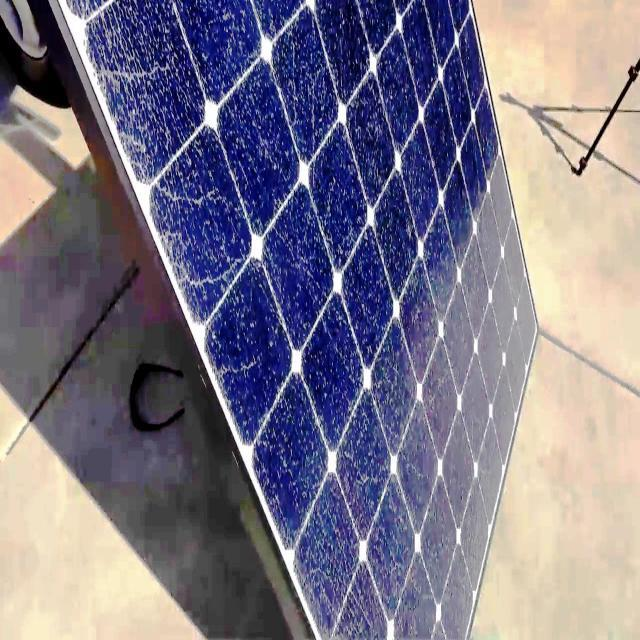faulty: (56, 2, 540, 640)
